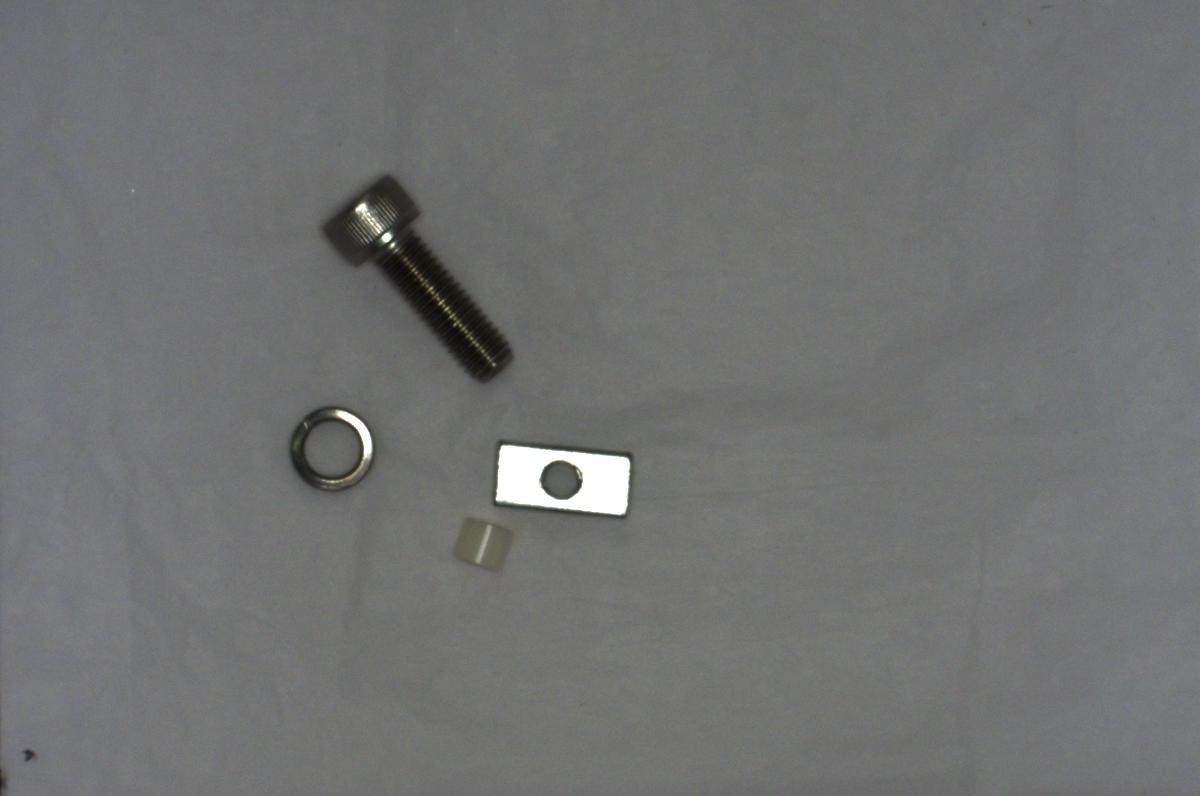Hexagon screw: (322, 168, 514, 381)
Plastic cushion pillar: (445, 507, 513, 580)
Rectangular nut: (484, 432, 639, 526)
Spring washer: (284, 399, 379, 494)
